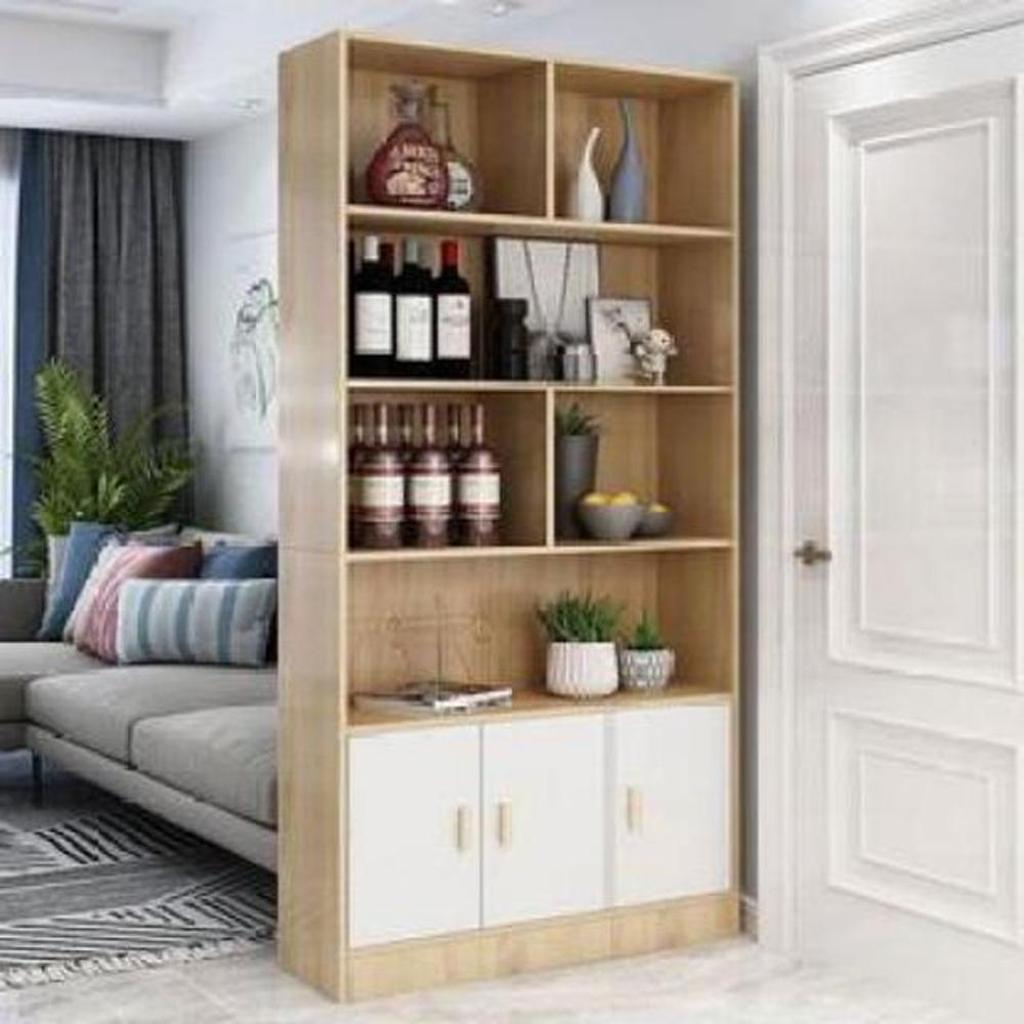lamp: (273, 26, 746, 1005)
